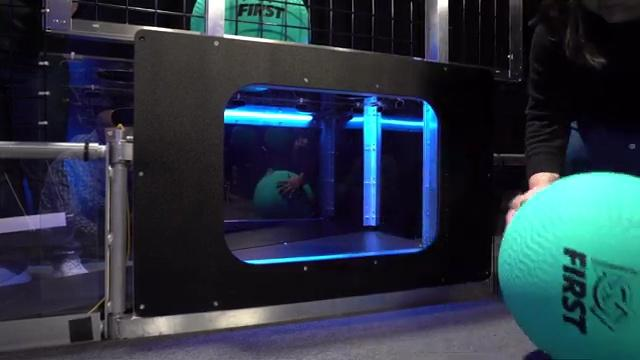ALGAE: (496, 169, 638, 358), (189, 0, 312, 46)
